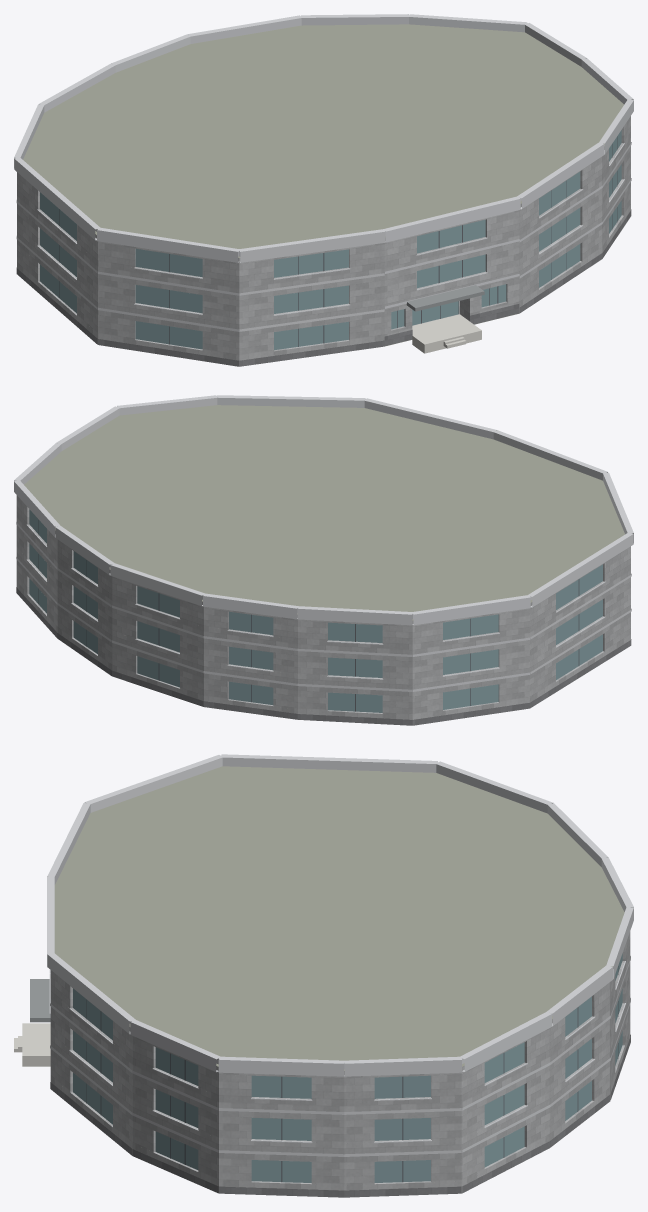
The picture shows the model from 3 angles, top to bottom: view 1: azimuth 30°, elevation 25°; view 2: azimuth 150°, elevation 25°; view 3: azimuth 270°, elevation 25°; orthographic projection. The views are drawn at different scales.
Parts seen in each view (by area): view 1: b100__roof, b100__wall, b100__trim, b100__glass, b100__base, b100__entranceStair, b100__canopy, b100__frame; view 2: b100__roof, b100__wall, b100__trim, b100__glass, b100__base, b100__frame; view 3: b100__roof, b100__wall, b100__trim, b100__glass, b100__base, b100__entranceStair, b100__frame, b100__canopy.
Boxes of the visible parts, x1,y1,x2,y2 form: b100__roof: [23, 24, 623, 345]; b100__wall: [17, 116, 630, 366]; b100__trim: [14, 14, 633, 331]; b100__glass: [40, 130, 621, 350]; b100__base: [16, 209, 631, 366]; b100__entranceStair: [412, 314, 481, 353]; b100__canopy: [406, 285, 484, 311]; b100__frame: [59, 136, 617, 346]; b100__roof: [24, 405, 624, 620]; b100__wall: [16, 495, 630, 719]; b100__trim: [14, 395, 633, 691]; b100__glass: [29, 509, 602, 712]; b100__base: [16, 587, 631, 725]; b100__frame: [38, 520, 579, 711]; b100__roof: [54, 766, 624, 1070]; b100__wall: [50, 931, 630, 1192]; b100__trim: [47, 754, 633, 1156]; b100__glass: [73, 953, 622, 1182]; b100__base: [50, 1034, 630, 1197]; b100__entranceStair: [14, 1023, 50, 1066]; b100__frame: [86, 966, 618, 1182]; b100__canopy: [30, 979, 50, 1022].
Size of the model in its own units: 56.73 by 12.06 by 48.02.
Materials: 9 (2 with a texture image).
